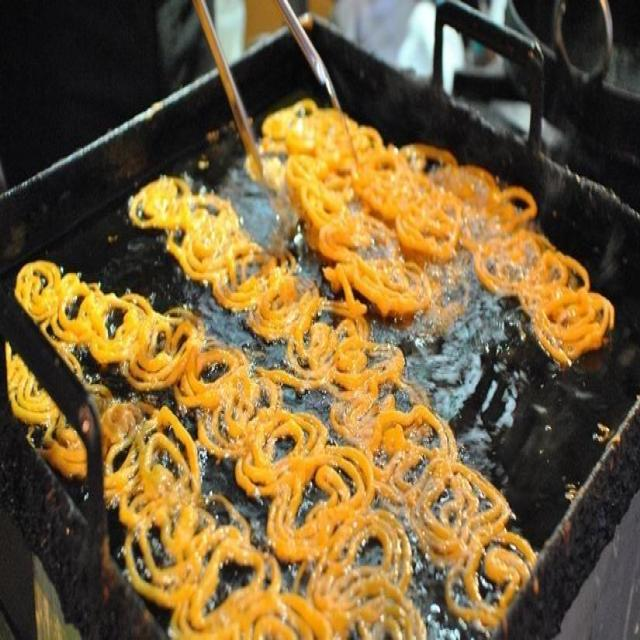jalebi: (74, 93, 605, 633)
